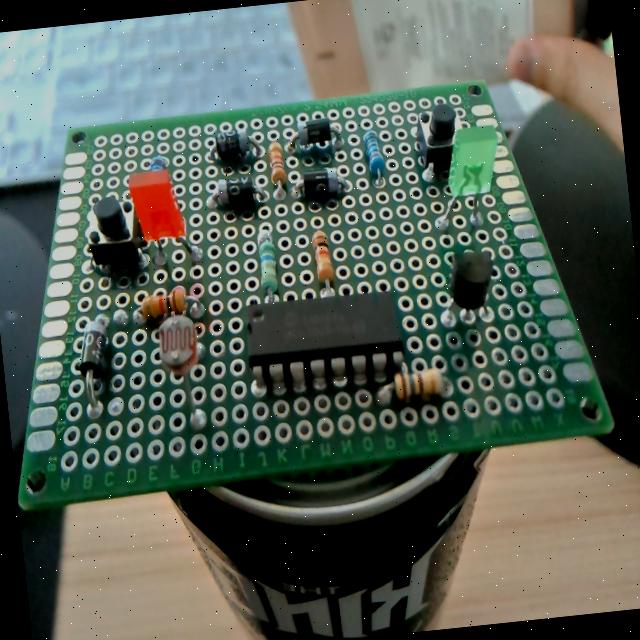IC: (237, 286, 408, 391)
cds: (145, 311, 216, 433)
diode: (70, 310, 124, 416), (204, 172, 270, 220), (284, 112, 349, 156), (203, 126, 266, 164), (296, 165, 349, 202)
led: (125, 155, 206, 272), (428, 121, 508, 231)
resistor: (124, 282, 209, 324), (384, 361, 446, 405), (255, 228, 280, 300), (310, 226, 336, 288), (362, 129, 386, 183), (266, 139, 288, 191)
switch: (82, 192, 148, 280), (410, 102, 460, 180)
transistor: (428, 244, 505, 327)
